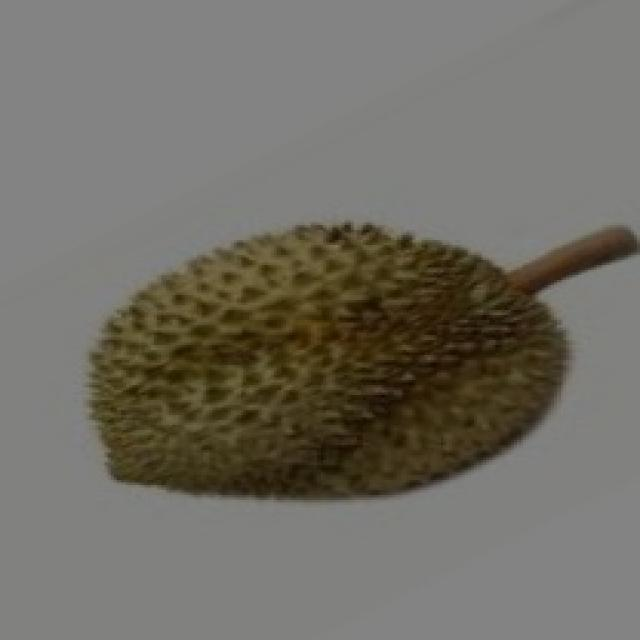fruit: (222, 170, 603, 540), (46, 183, 412, 545)
